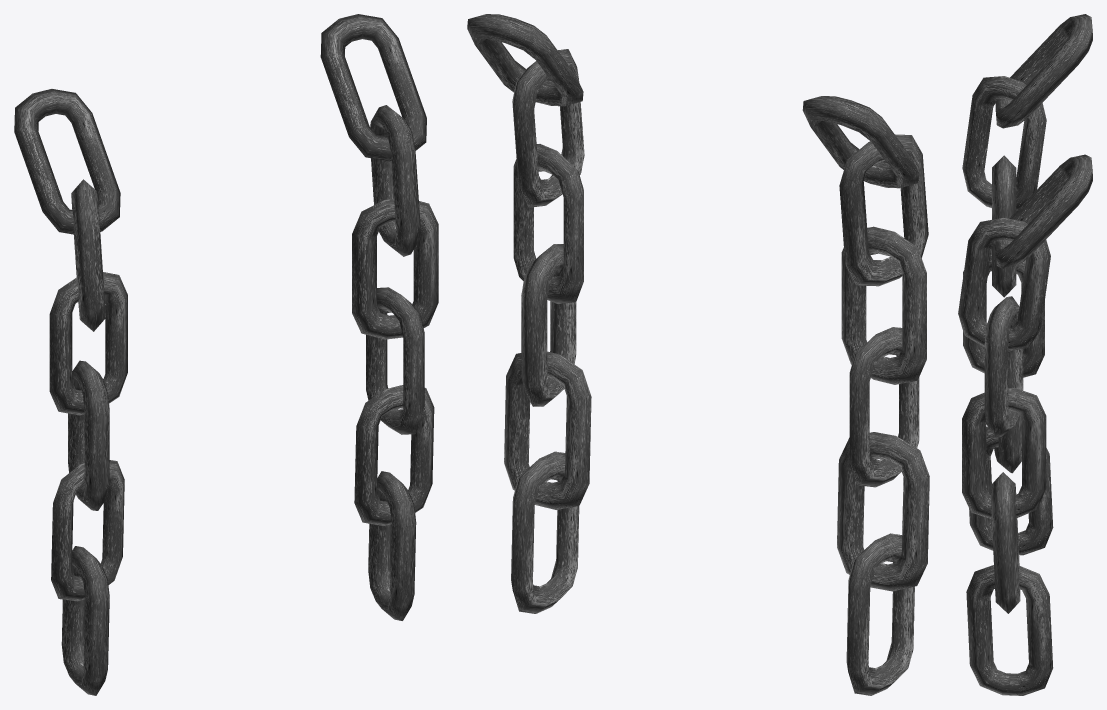
The model's file is chain2.obj.
The picture shows the model from 3 angles, left to right: view 1: azimuth 30°, elevation 25°; view 2: azimuth 150°, elevation 25°; view 3: azimuth 270°, elevation 25°; orthographic projection. The views are drawn at different scales.
Parts seen in each view (by area): view 1: chain_2; view 2: chain_2; view 3: chain_2.
Part boxes in pixels (bbox=[...]): chain_2: bbox=[14, 14, 438, 695]; chain_2: bbox=[467, 14, 929, 695]; chain_2: bbox=[958, 14, 1092, 695].
Size of the model in its own units: 8.23 by 11.62 by 2.66.
1 material, 1 textured.
